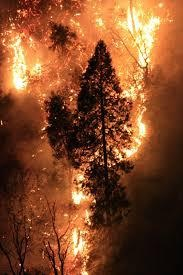fire: (4, 33, 44, 91)
